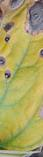Tomato Early blight leaf: (0, 0, 43, 151)
